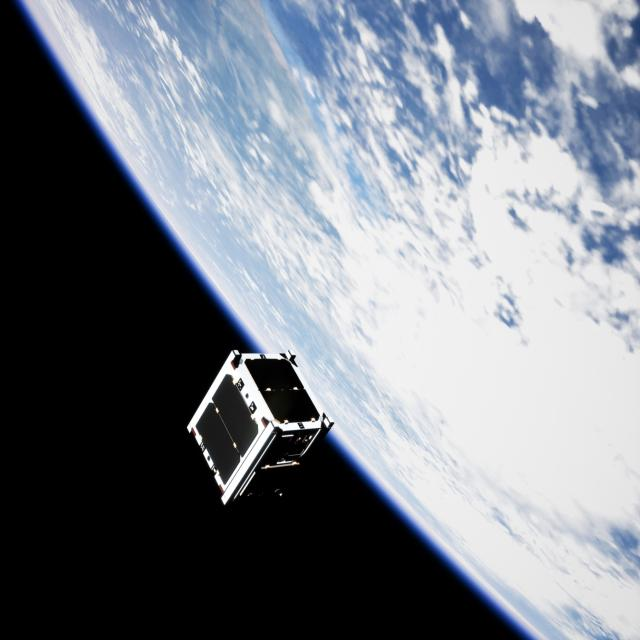medium_debris: (175, 348, 332, 508)
